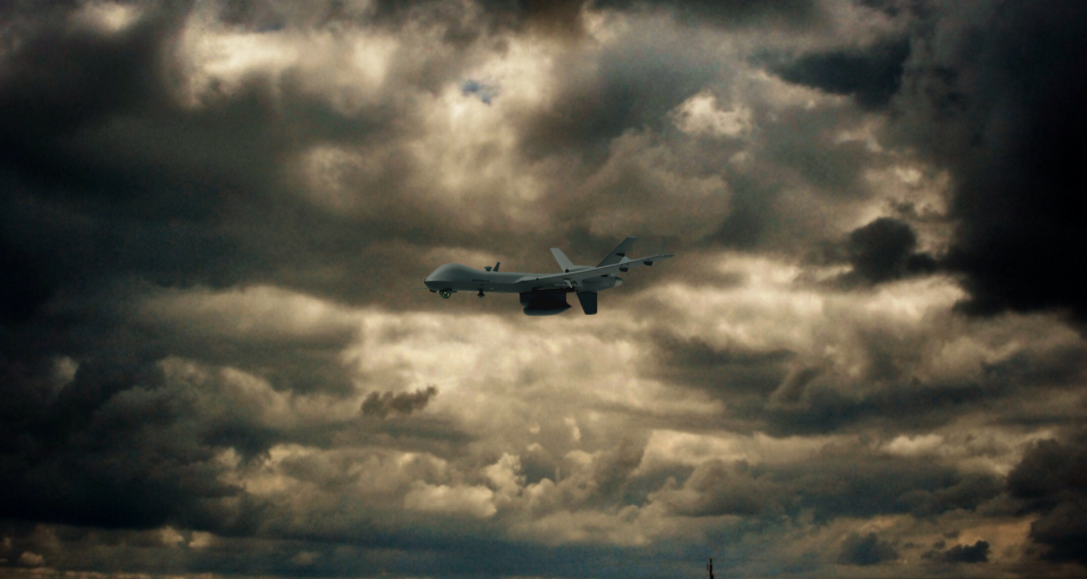military drone: (423, 236, 674, 314)
